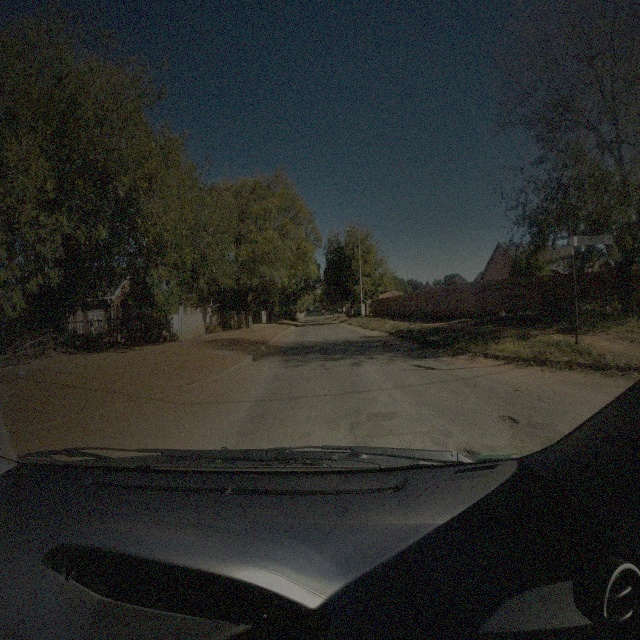pothole: (500, 413, 518, 428)
